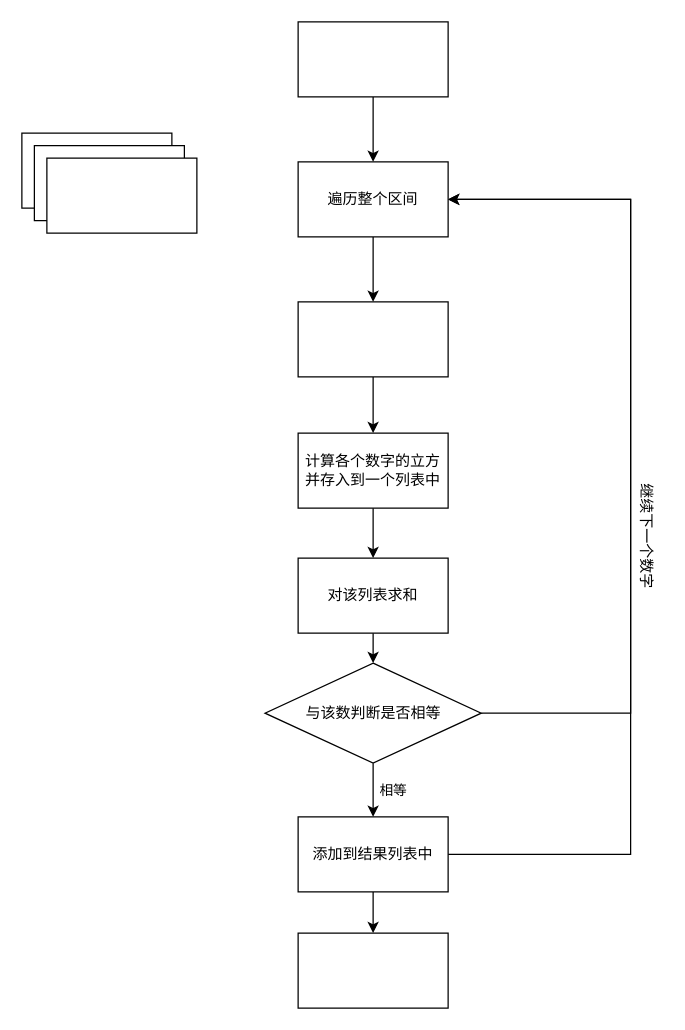
The diagram is 685 pixels wide and 1030 high, and some of its shapes have lost their labels. The centre of each missing label's shape, as x and y in pixels:
打印结果列表: the point at 372,970
转换数字格式为list获取该数的各个数位上的数字: the point at 372,339
输入区间的终点: the point at 372,59
